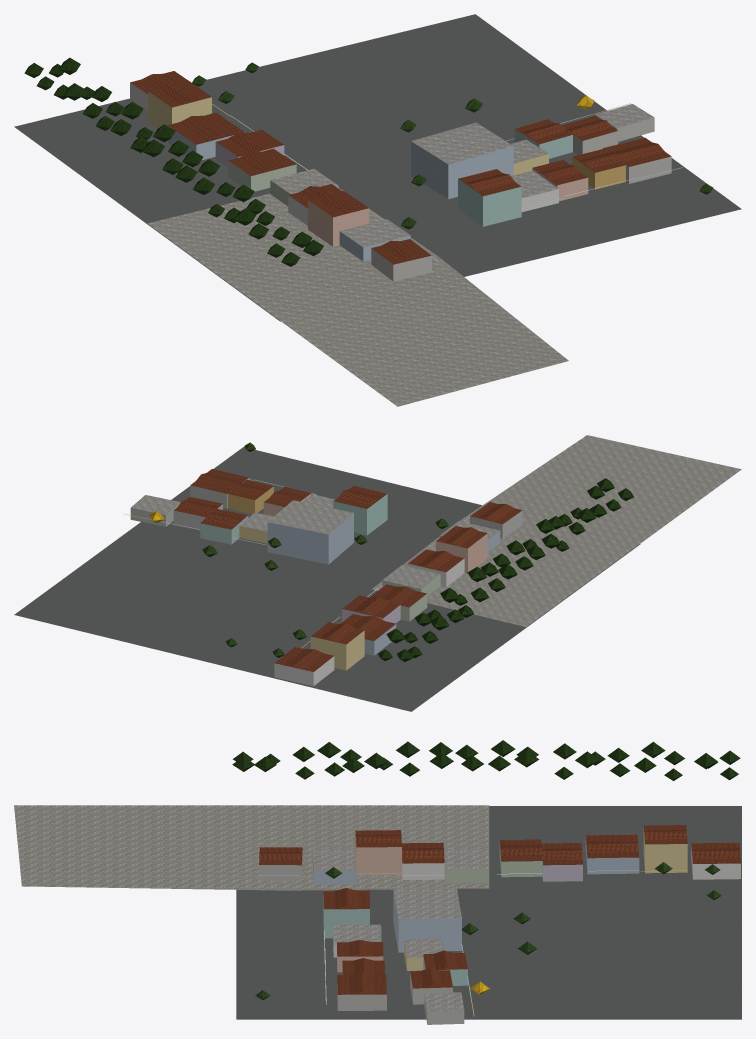
The model's file is cidade_S00_02_lod.gltf.
The picture shows the model from 3 angles, top to bottom: view 1: azimuth 30°, elevation 25°; view 2: azimuth 150°, elevation 25°; view 3: azimuth 270°, elevation 25°; orthographic projection. The views are drawn at different scales.
Parts seen in each view (by area): view 1: S00_02_Chao_LOD2, S00_02_Edificios_LOD1, S00_02_Silhueta_LOD2, S00_02_Vegetacao_LOD2; view 2: S00_02_Chao_LOD2, S00_02_Edificios_LOD1, S00_02_Silhueta_LOD2, S00_02_Vegetacao_LOD2; view 3: S00_02_Chao_LOD2, S00_02_Edificios_LOD1, S00_02_Silhueta_LOD2, S00_02_Vegetacao_LOD2.
Part boxes in pixels (x1,y1,x2,y2): S00_02_Chao_LOD2: (14,14,741,406); S00_02_Edificios_LOD1: (130,73,682,281); S00_02_Silhueta_LOD2: (130,71,671,281); S00_02_Vegetacao_LOD2: (24,57,713,266); S00_02_Chao_LOD2: (14,435,741,711); S00_02_Edificios_LOD1: (123,473,522,686); S00_02_Silhueta_LOD2: (173,469,522,685); S00_02_Vegetacao_LOD2: (149,442,633,661); S00_02_Chao_LOD2: (14,805,741,1019); S00_02_Edificios_LOD1: (259,829,740,1024); S00_02_Silhueta_LOD2: (259,825,740,1010); S00_02_Vegetacao_LOD2: (232,740,740,1000).
Size of the model in its own units: 103 by 15.88 by 144.
18 materials, 18 textured.
